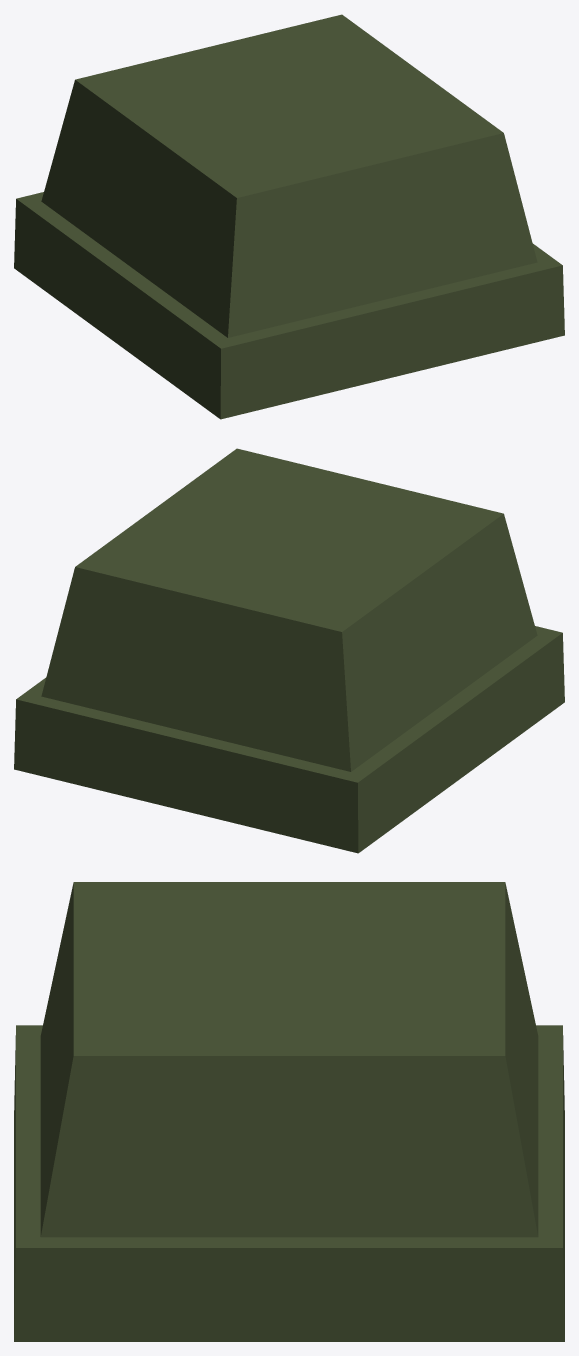
The model's file is gear_head_wool_cap.glb.
3 views of the same model, one above another, from view 1: azimuth 30°, elevation 25°; view 2: azimuth 150°, elevation 25°; view 3: azimuth 270°, elevation 25° (orthographic). The views are drawn at different scales.
Parts seen in each view (by area): view 1: head; view 2: head; view 3: head.
Boxes of the visible parts, x1,y1,x2,y2 form: head: (14,14,564,419); head: (14,448,564,853); head: (14,882,564,1341).
Bounding box in the file's own units: 0.258 × 0.14 × 0.268.
